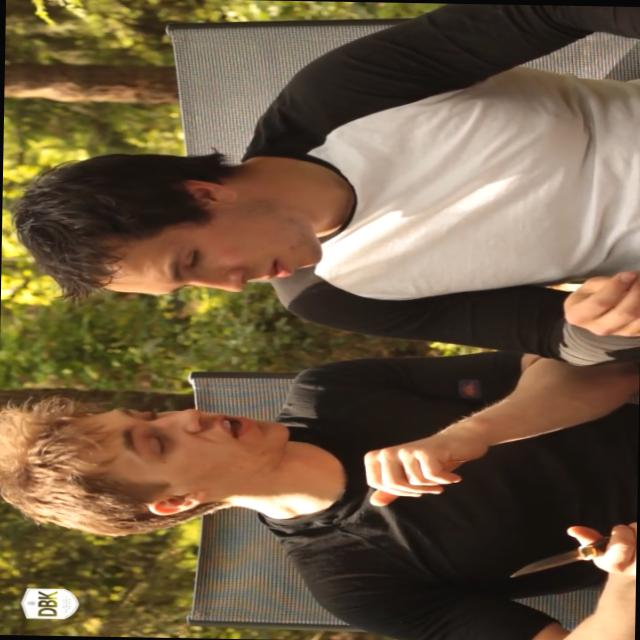knife: (488, 514, 636, 592)
